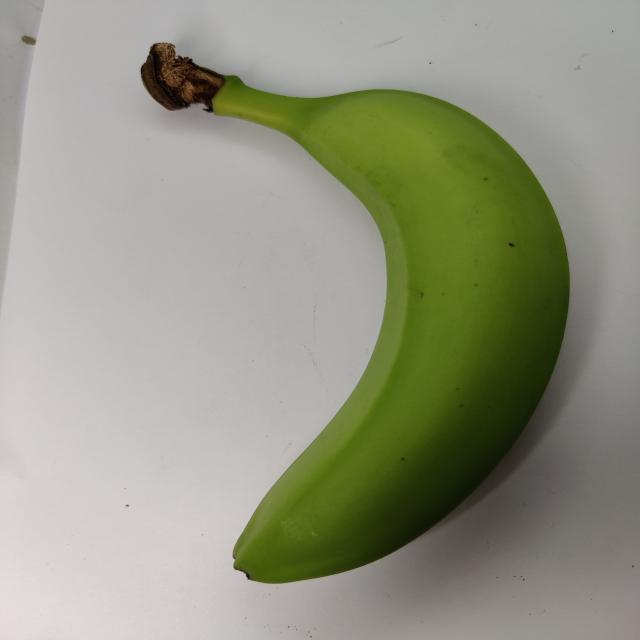raw: (106, 36, 596, 593)
